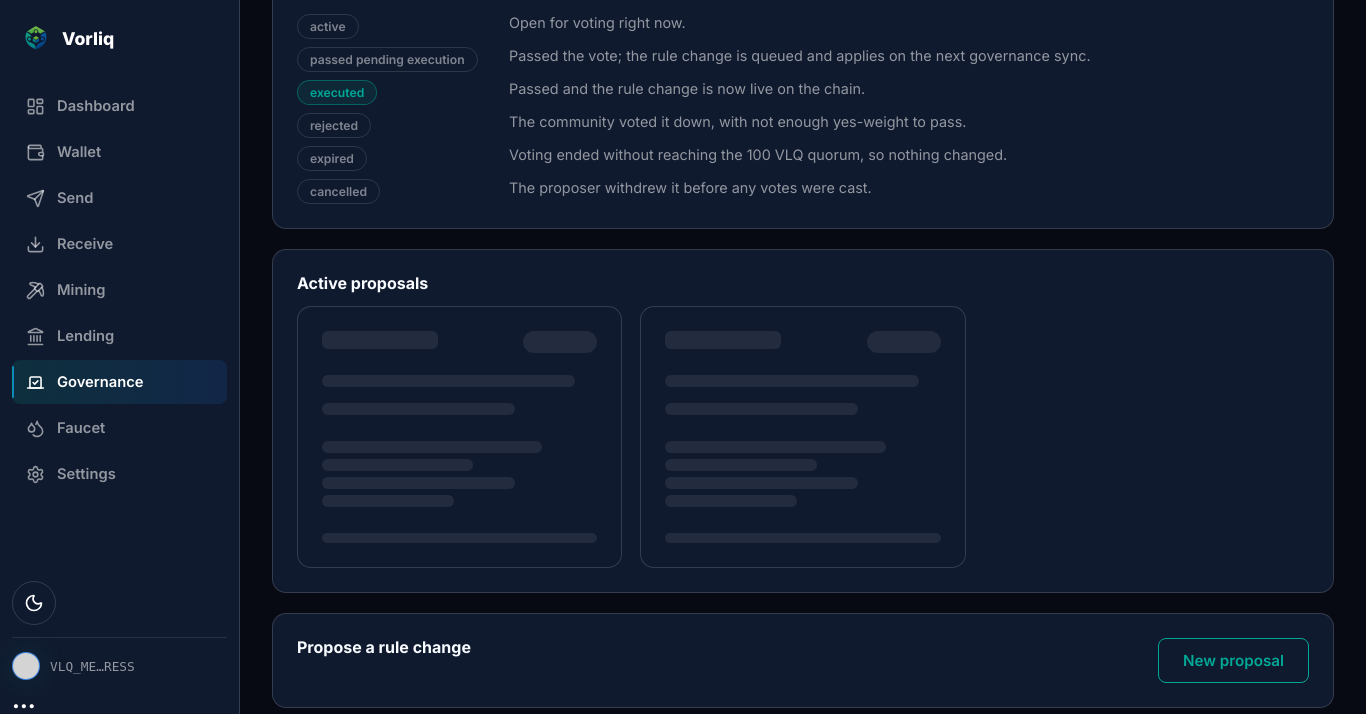
Scenario: propose form shows category validation guidance
(page scrolled)
Click the button "New proposal" at (1234, 661), box x1=1158 y1=638 x2=1309 y2=683
(page scrolled)
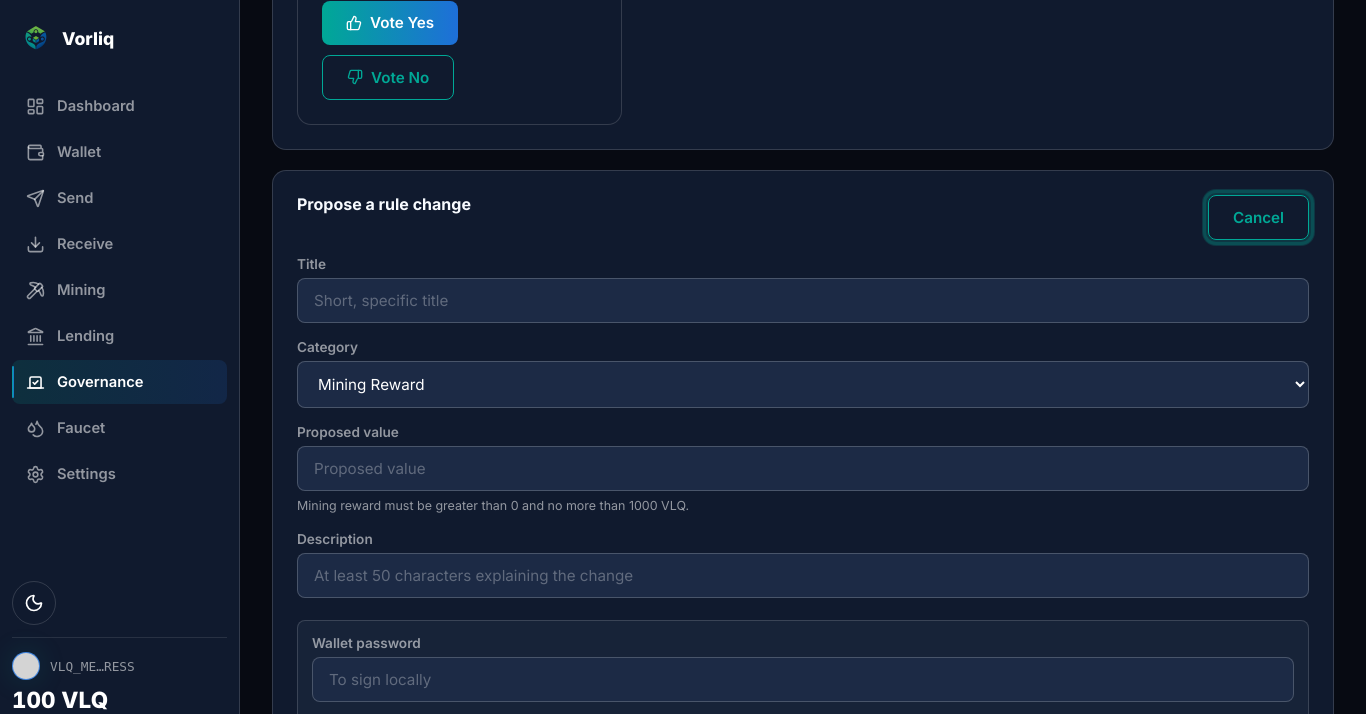
Now the text "Mining reward must be greater than 0" is shown, box x1=297 y1=498 x2=689 y2=513
Select "Community Request Limit" in the dropdown labelled "Category" at (803, 384), box x1=297 y1=361 x2=1309 y2=408
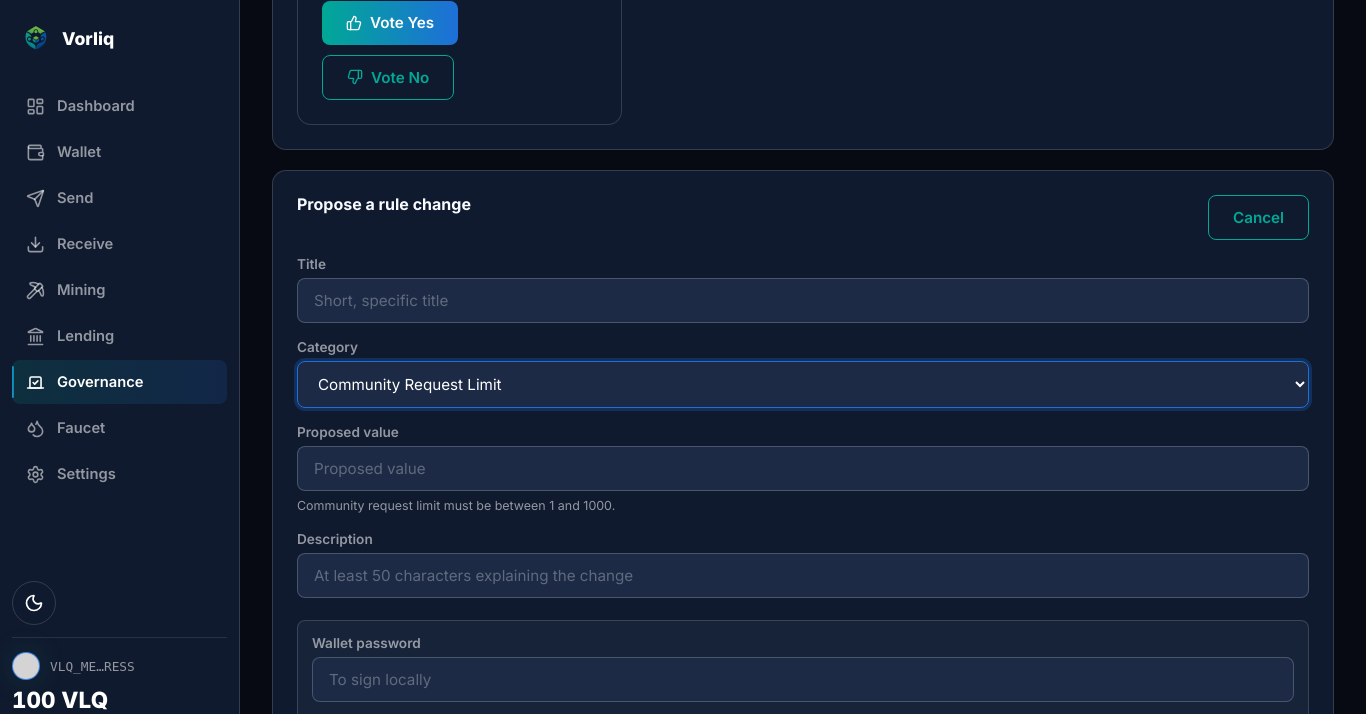
Now the text "Community request limit must be between 1 and 1000." is shown, box x1=297 y1=498 x2=615 y2=513
Select "General Proposal" in the dropdown labelled "Category" at (803, 384), box x1=297 y1=361 x2=1309 y2=408
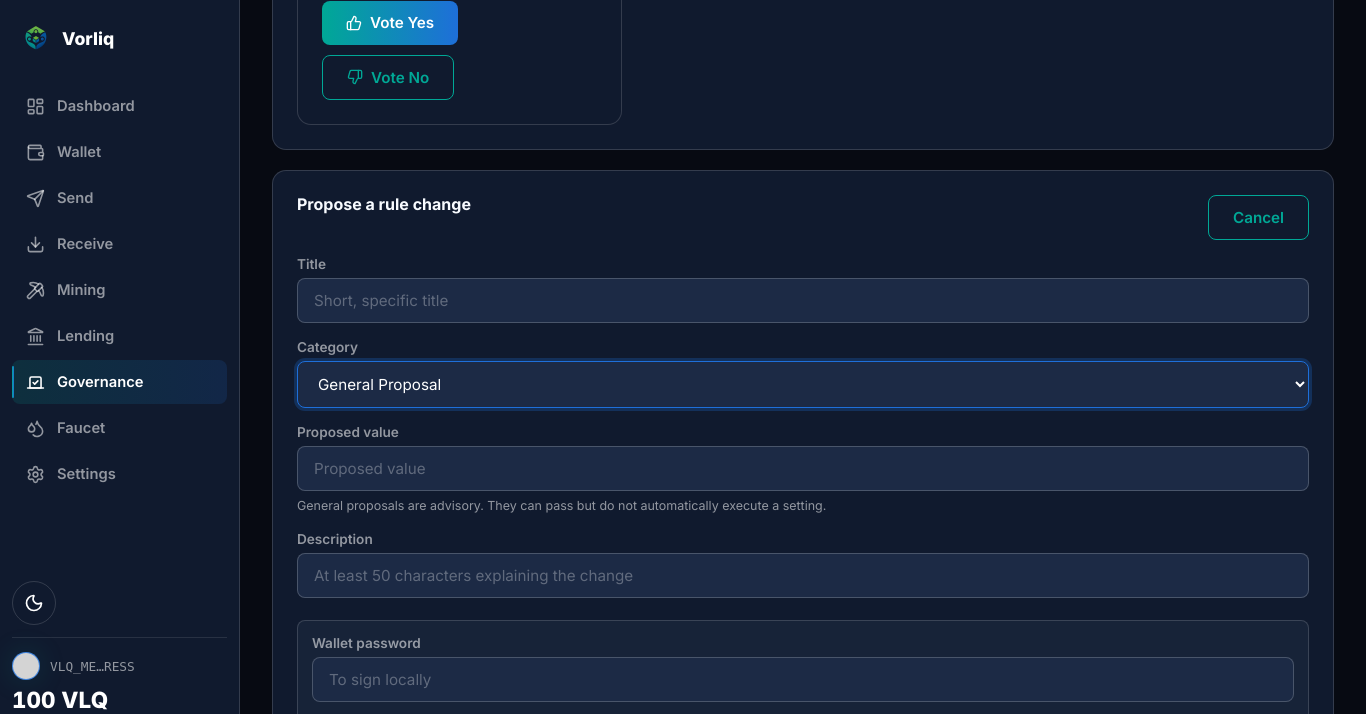
Now the text "General proposals are advisory" is shown, box x1=297 y1=498 x2=826 y2=513
